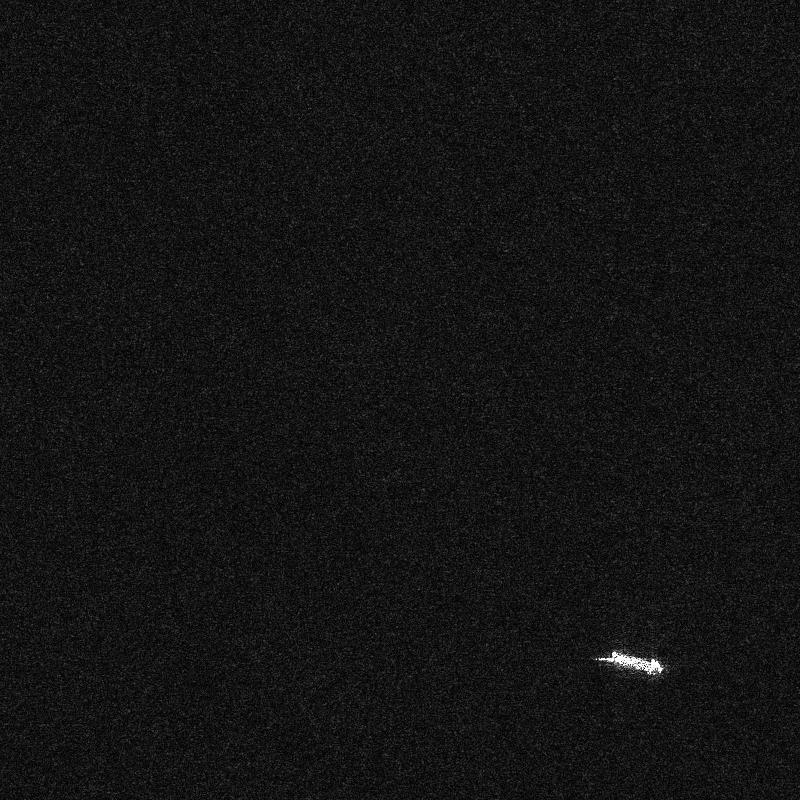ship: (598, 651, 663, 675)
